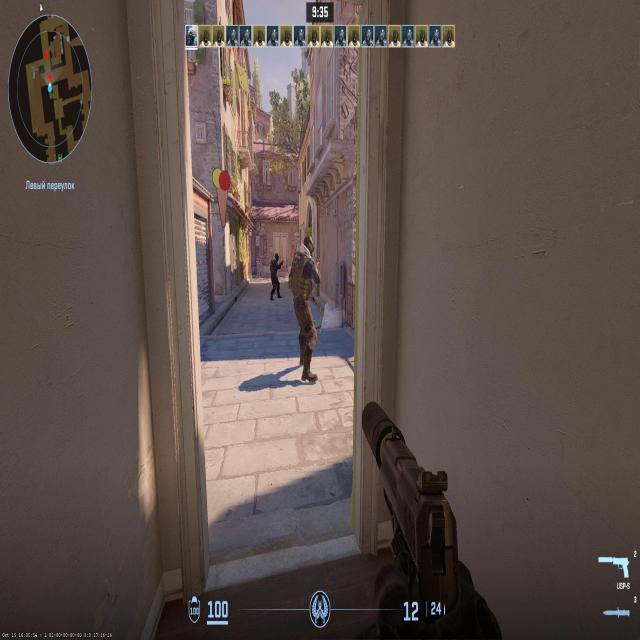CT: (300, 234, 312, 363), (271, 254, 278, 295)
CT_heat: (306, 238, 311, 257), (272, 254, 277, 266)
